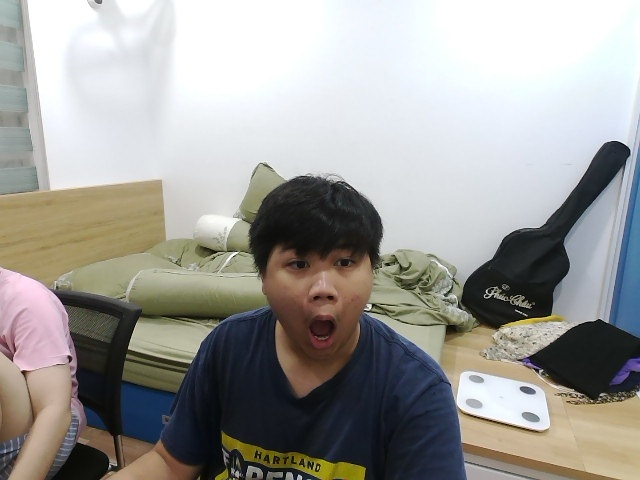face: (247, 174, 384, 359)
